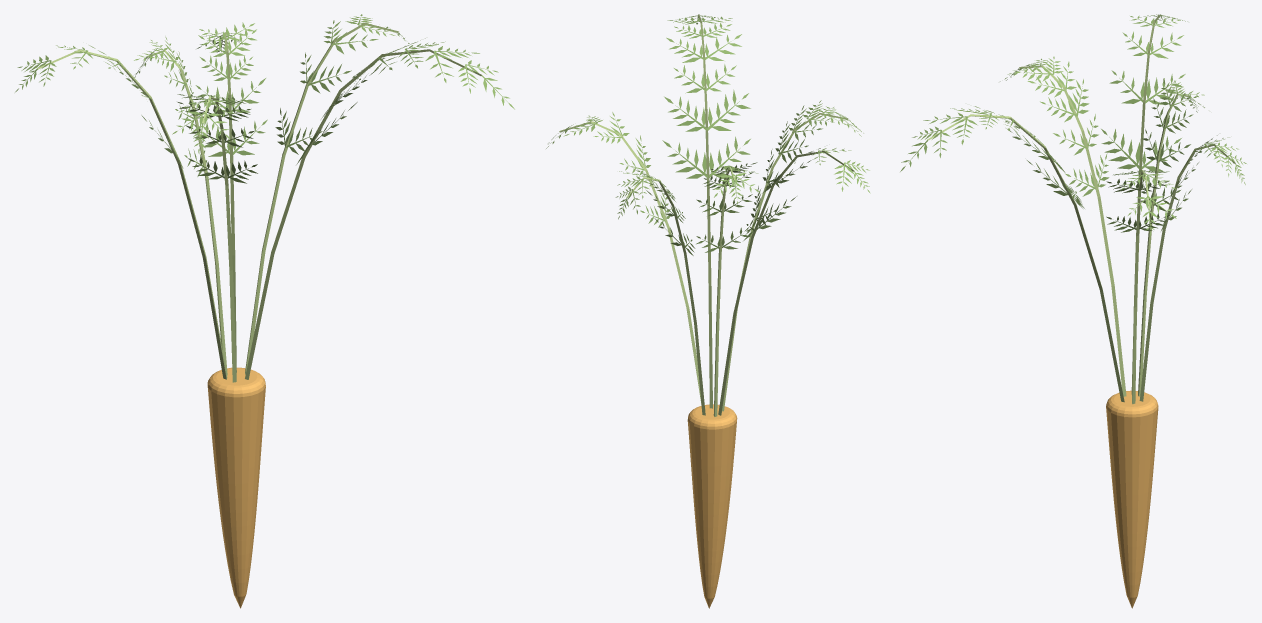
Rendered from carrot_harvest_v14.glb.
The picture shows the model from 3 angles, left to right: view 1: azimuth 30°, elevation 25°; view 2: azimuth 150°, elevation 25°; view 3: azimuth 270°, elevation 25°; orthographic projection. The views are drawn at different scales.
Parts seen in each view (by area): view 1: leaves, root, petioles; view 2: leaves, root, petioles; view 3: leaves, root, petioles.
Boxes of the visible parts, x1,y1,x2,y2 form: leaves: (15,14,514,183); root: (207,367,265,608); petioles: (37,23,481,382); leaves: (546,15,870,255); root: (687,404,737,608); petioles: (559,14,854,416); leaves: (900,14,1246,235); root: (1106,390,1158,608); petioles: (927,14,1235,404).
Size of the model in its own units: 0.2743 by 0.4013 by 0.2355.
